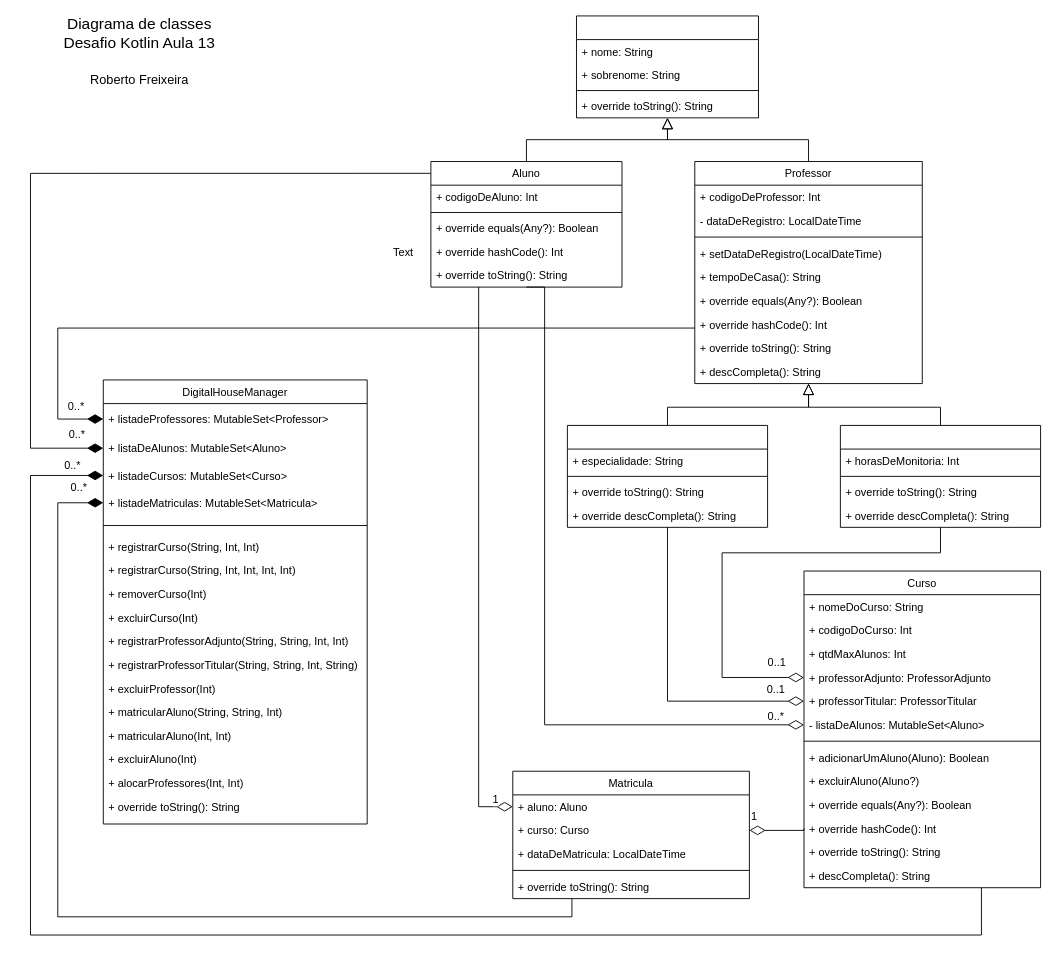
The diagram is 1057 pixels wide and 966 high, and some of its shapes have lost their labels. The box of each missing label's shape, as (x1, y1, x2, y2) in pixels:
Pessoa: (576, 15, 758, 118)
ProfessorAdjunto: (839, 425, 1041, 527)
ProfessorTitular: (566, 425, 768, 527)
